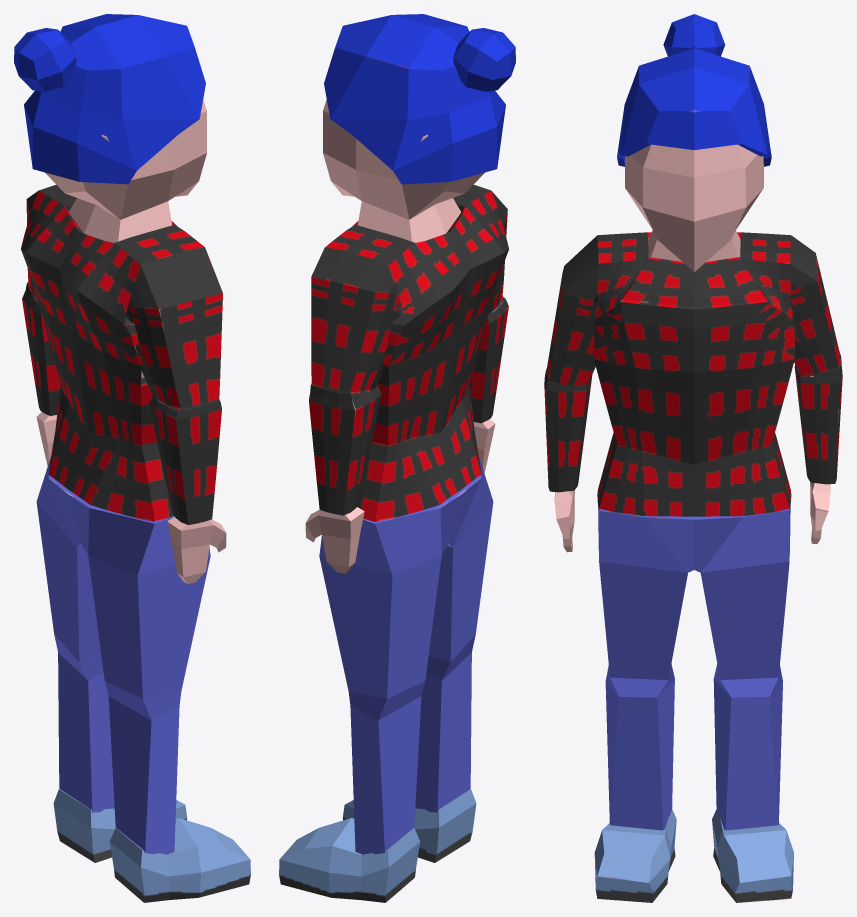
File: char.glb
3 renders of one model, left to right at view 1: azimuth 30°, elevation 25°; view 2: azimuth 150°, elevation 25°; view 3: azimuth 270°, elevation 25°, orthographic. The views are drawn at different scales.
Visible parts, largest first — view 1: char_Cube.003; view 2: char_Cube.003; view 3: char_Cube.003.
Boxes of the visible parts, <box> form: char_Cube.003: <box>14,14,250,902</box>; char_Cube.003: <box>279,14,515,902</box>; char_Cube.003: <box>544,14,842,902</box>.
Bounding box in the file's own units: 0.1418 × 0.6075 × 0.2022.
1 material, 1 textured.
